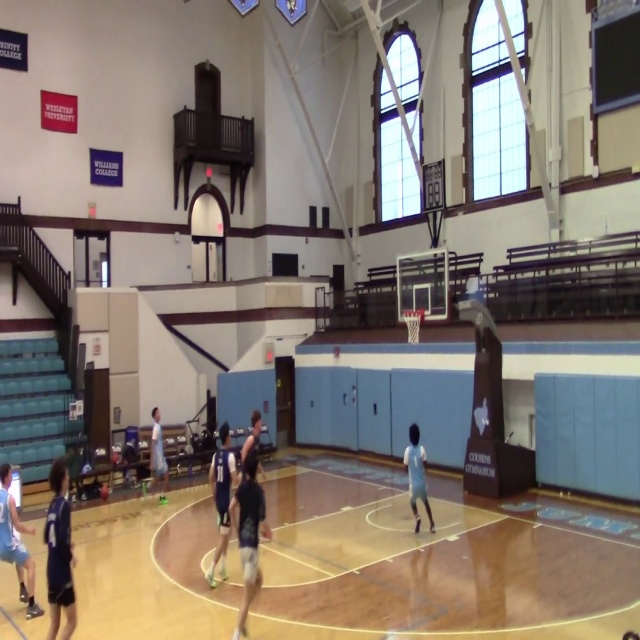Basketball: (260, 529, 272, 540)
